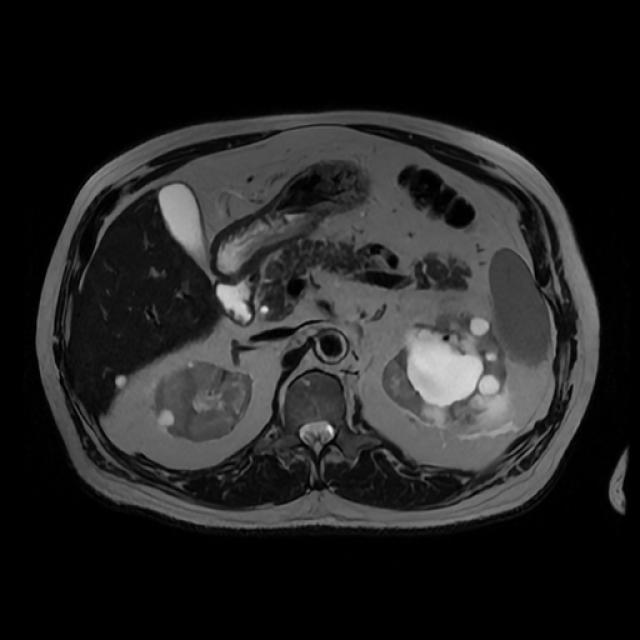sag: (151, 361, 255, 442)
sol: (381, 311, 512, 431)
